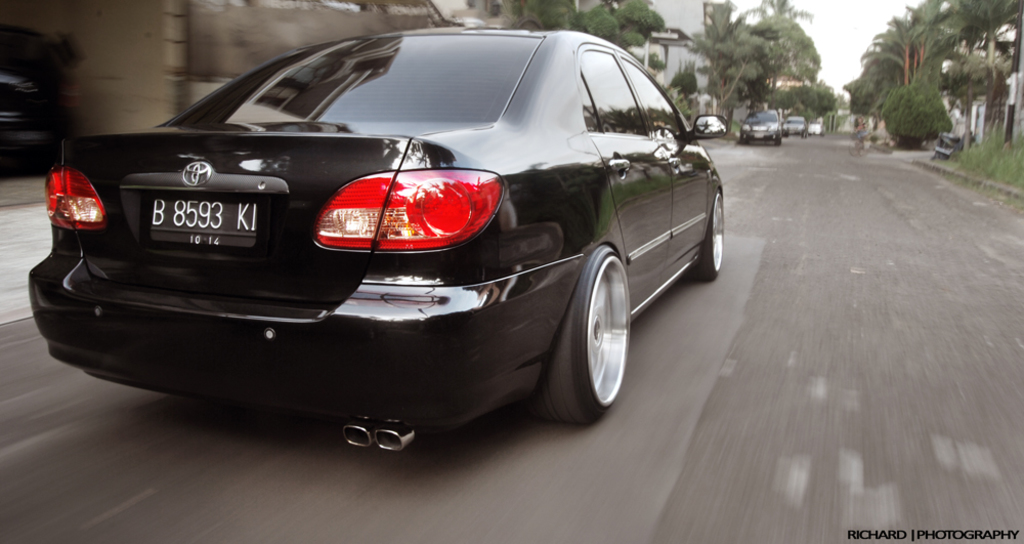cars: (28, 29, 729, 457), (740, 105, 782, 144), (783, 112, 804, 137), (807, 113, 825, 140)
